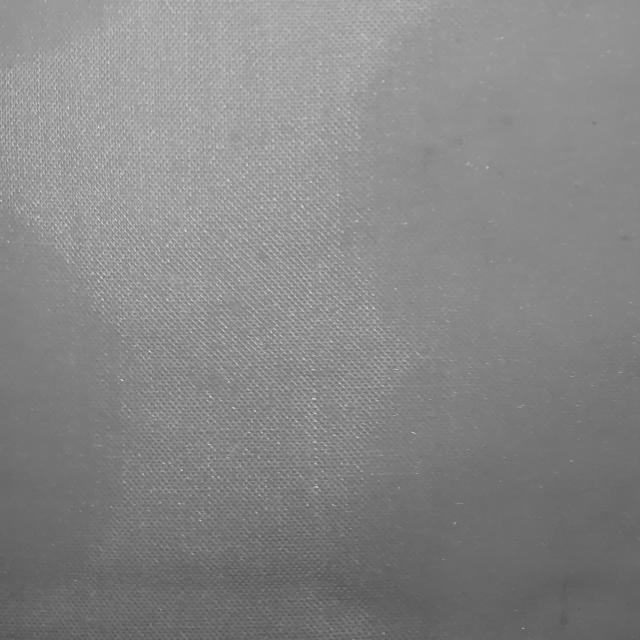Stain: (335, 0, 640, 640), (1, 211, 110, 608), (0, 0, 135, 71)
